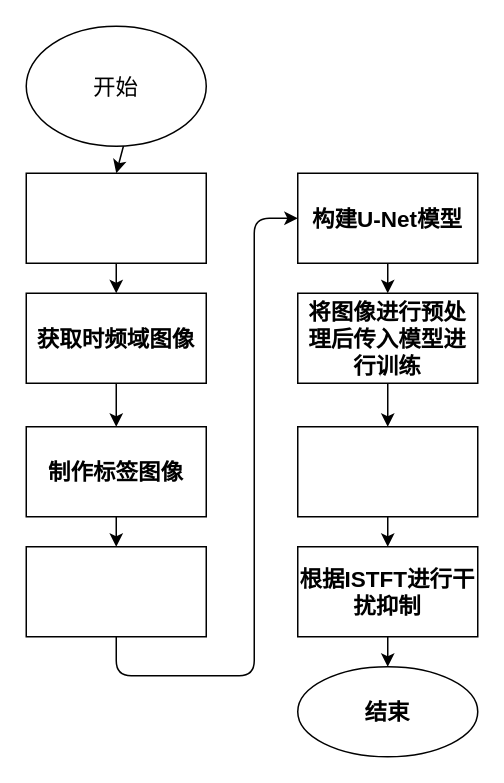
Some shapes in this 504 by 783 pixel diagram are drawn without their labels. Here are the shapes that lost their labels. From the top down, the centre of each, then its label:
(115,217): 对ISRJ进行仿真
(387,471): 利用训练好的模型进行干扰信号的识别
(115,591): 构建测试集和训练集
